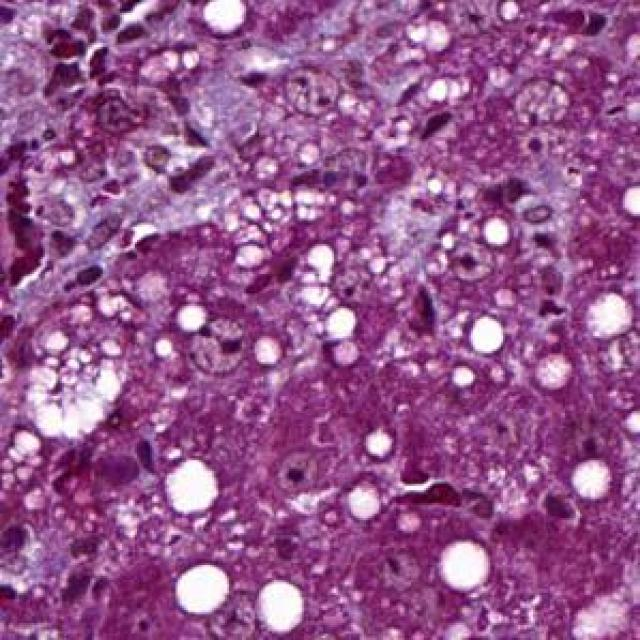ballooning: (17, 310, 133, 443)
